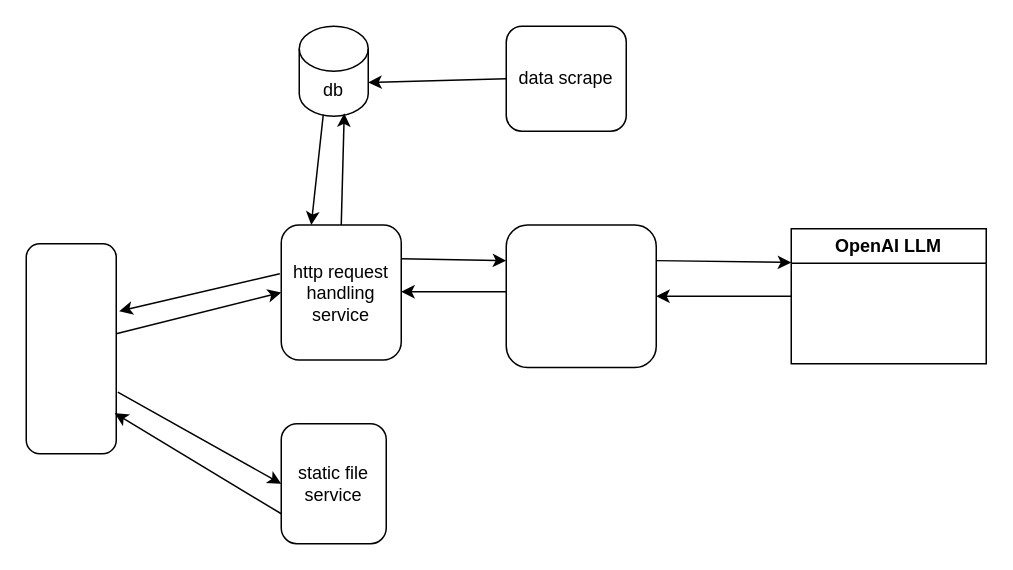
Image size: 1013x570. Some labels were removed from this diagram. Here are the shapes that lost their labels. From the top down, the box of each, then its label:
(505, 224, 656, 368): DIFY orchestration
(25, 242, 116, 454): nginx
